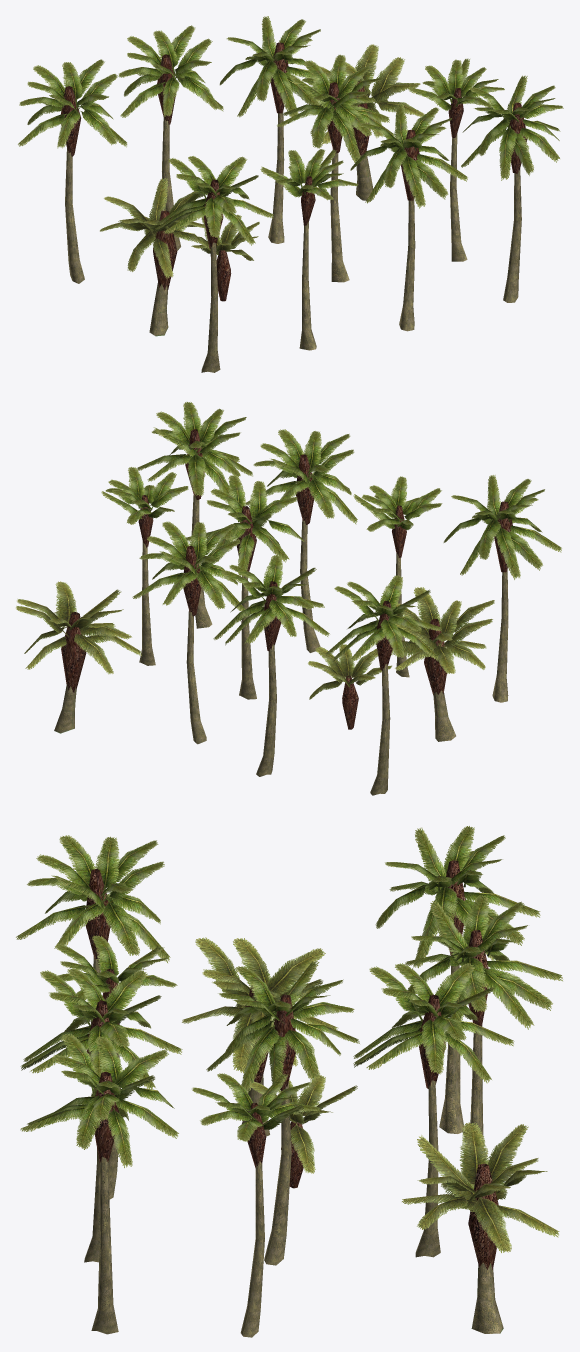
File: orchard_date_c.glb
3 renders of one model, top to bottom at view 1: azimuth 30°, elevation 25°; view 2: azimuth 150°, elevation 25°; view 3: azimuth 270°, elevation 25°, orthographic. The views are drawn at different scales.
Parts seen in each view (by area): view 1: palm_7, palm_0, palm_8, palm_11, palm_2, palm_6, palm_3, palm_1, palm_10, palm_5, palm_9, palm_4; view 2: palm_6, palm_8, palm_2, palm_9, palm_0, palm_3, palm_1, palm_11, palm_7, palm_10, palm_5, palm_4; view 3: palm_11, palm_9, palm_7, palm_6, palm_2, palm_3, palm_0, palm_8, palm_10, palm_1, palm_5, palm_4.
Part boxes in pixels (left/top/right/bottom): palm_7: left=277, top=54, right=393, bottom=282; palm_0: left=18, top=59, right=127, bottom=283; palm_8: left=350, top=103, right=467, bottom=331; palm_11: left=461, top=75, right=563, bottom=302; palm_2: left=155, top=156, right=273, bottom=372; palm_6: left=219, top=16, right=320, bottom=243; palm_3: left=118, top=25, right=223, bottom=250; palm_1: left=100, top=178, right=210, bottom=336; palm_10: left=408, top=58, right=504, bottom=261; palm_5: left=260, top=149, right=358, bottom=350; palm_9: left=310, top=44, right=424, bottom=200; palm_4: left=191, top=214, right=259, bottom=301; palm_6: left=132, top=521, right=245, bottom=744; palm_8: left=245, top=429, right=357, bottom=652; palm_2: left=443, top=475, right=561, bottom=702; palm_9: left=16, top=581, right=141, bottom=733; palm_0: left=325, top=575, right=441, bottom=795; palm_3: left=213, top=555, right=329, bottom=776; palm_1: left=369, top=587, right=494, bottom=741; palm_11: left=136, top=402, right=252, bottom=628; palm_7: left=186, top=475, right=304, bottom=699; palm_10: left=101, top=467, right=188, bottom=665; palm_5: left=353, top=476, right=442, bottom=677; palm_4: left=308, top=644, right=391, bottom=729; palm_11: left=20, top=1034, right=178, bottom=1334; palm_9: left=402, top=1122, right=559, bottom=1333; palm_7: left=206, top=961, right=359, bottom=1265; palm_6: left=353, top=963, right=514, bottom=1257; palm_2: left=16, top=835, right=170, bottom=1025; palm_3: left=405, top=895, right=562, bottom=1185; palm_0: left=375, top=826, right=540, bottom=1133; palm_8: left=20, top=968, right=182, bottom=1262; palm_10: left=192, top=1073, right=319, bottom=1337; palm_1: left=182, top=937, right=338, bottom=1136; palm_5: left=55, top=935, right=177, bottom=1199; palm_4: left=250, top=1075, right=357, bottom=1188.
Bounding box in the file's own units: 39.87 × 18.43 × 33.1.
Materials: 12 (12 with a texture image).
